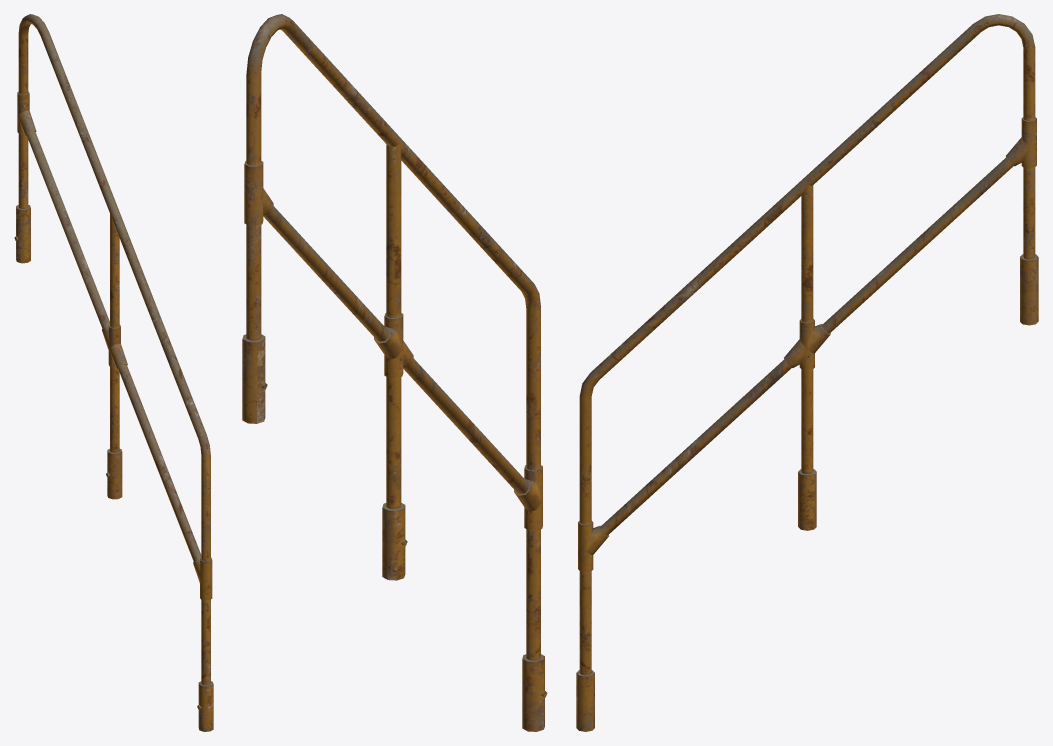
The model's file is Railing01_Stairs01a.fbx.
3 views of the same model, side by side, from view 1: azimuth 30°, elevation 25°; view 2: azimuth 150°, elevation 25°; view 3: azimuth 270°, elevation 25° (orthographic). The views are drawn at different scales.
Visible parts, largest first — view 1: Railing01_Stairs01a_LOD0; view 2: Railing01_Stairs01a_LOD0; view 3: Railing01_Stairs01a_LOD0.
Boxes of the visible parts, left/top/right/bottom form: Railing01_Stairs01a_LOD0: left=14, top=14, right=213, bottom=731; Railing01_Stairs01a_LOD0: left=242, top=14, right=547, bottom=731; Railing01_Stairs01a_LOD0: left=576, top=14, right=1038, bottom=731.
Size of what is drawn, in the model's own units: 6.66 by 259 by 152.
